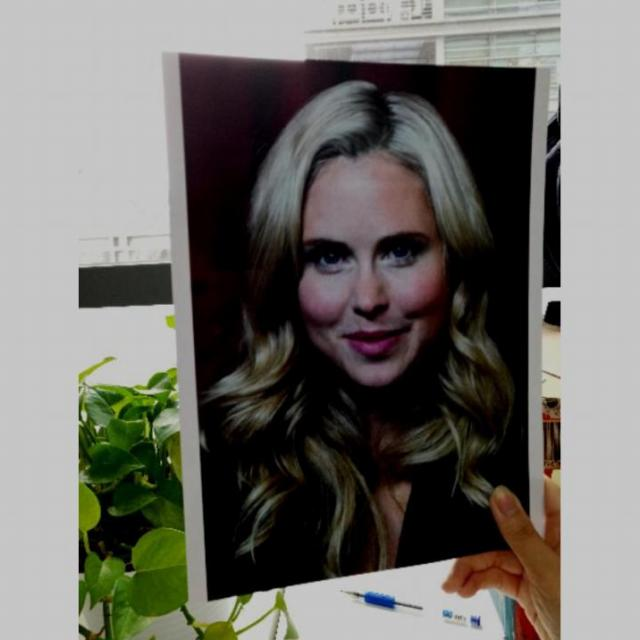photo: (155, 50, 555, 606)
